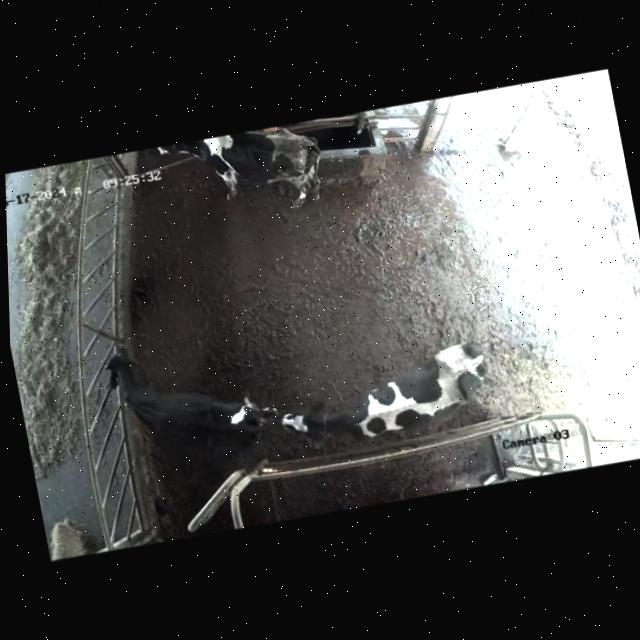stand: (268, 320, 509, 459), (101, 323, 287, 487), (152, 116, 338, 233)
